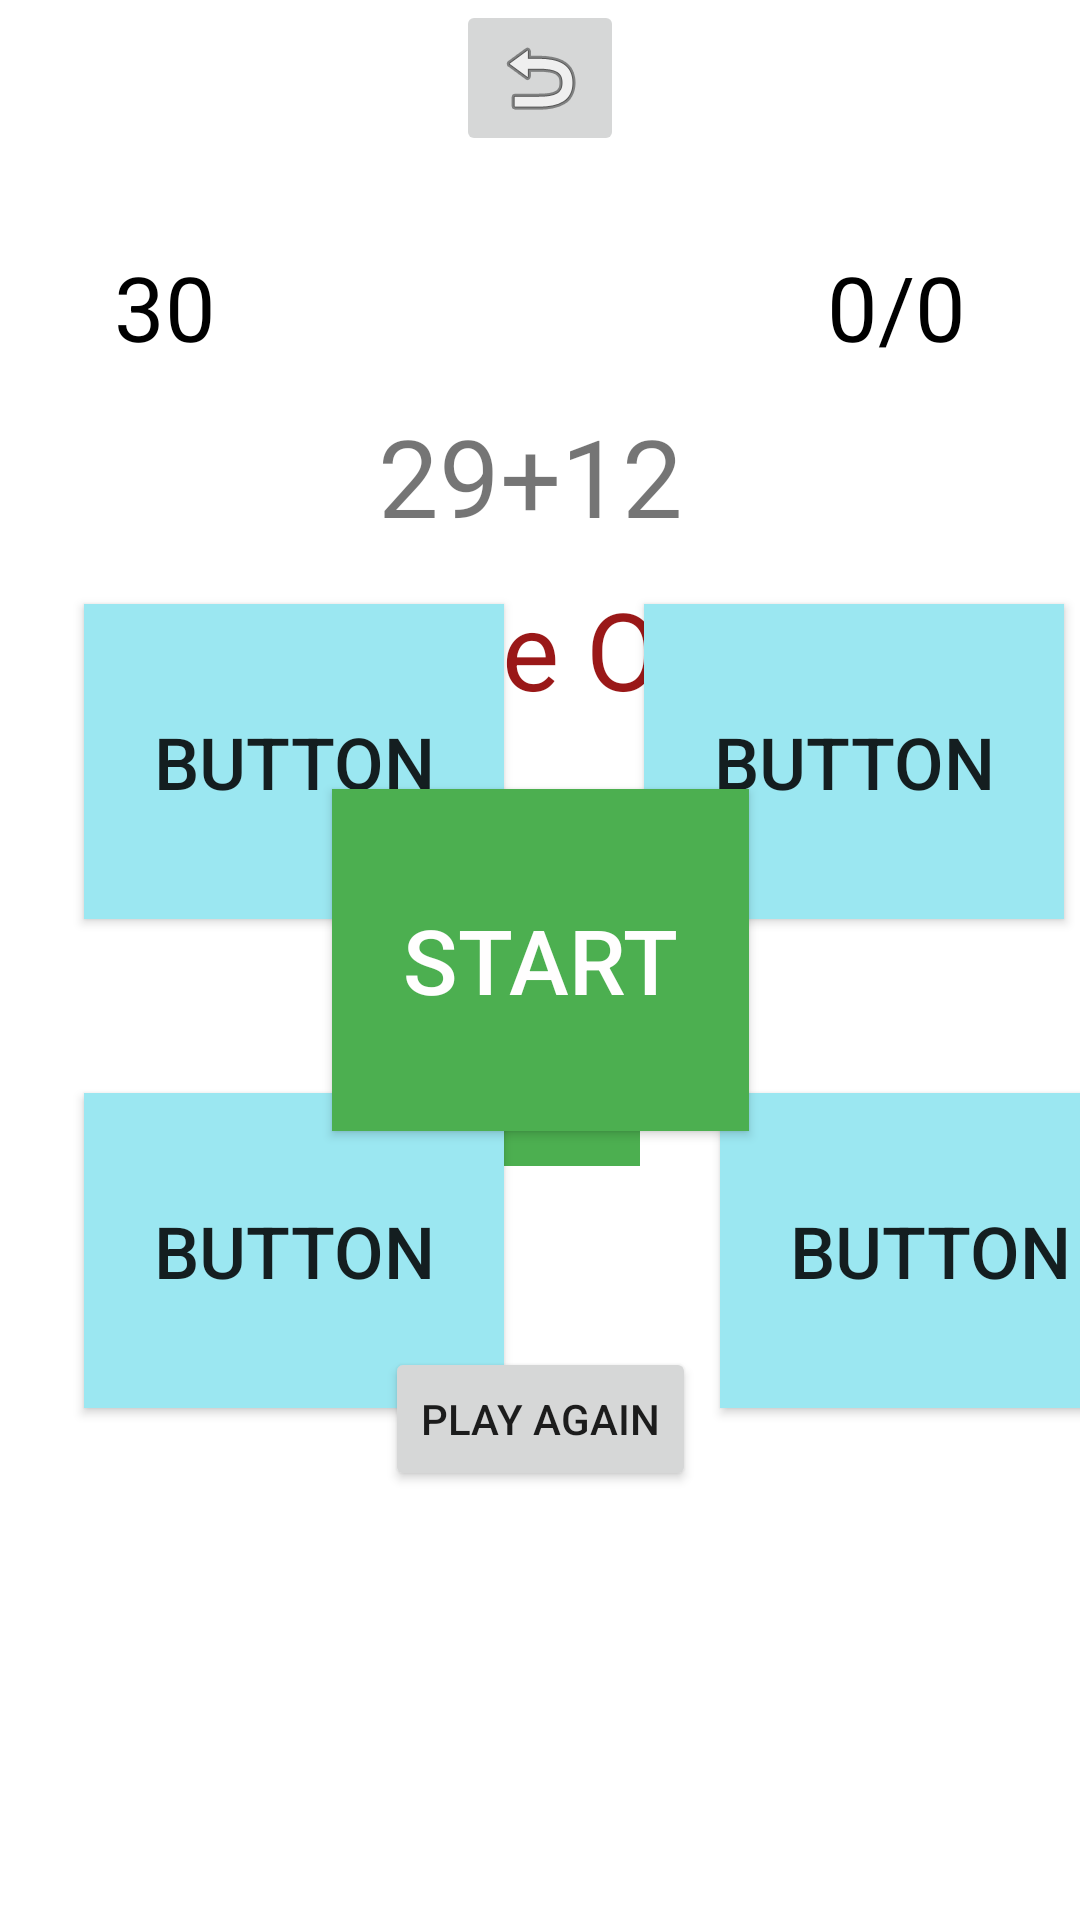

Point at icon controls on the screen. Image size 1080x1920, points as [x,y].
revert: [540,78]
